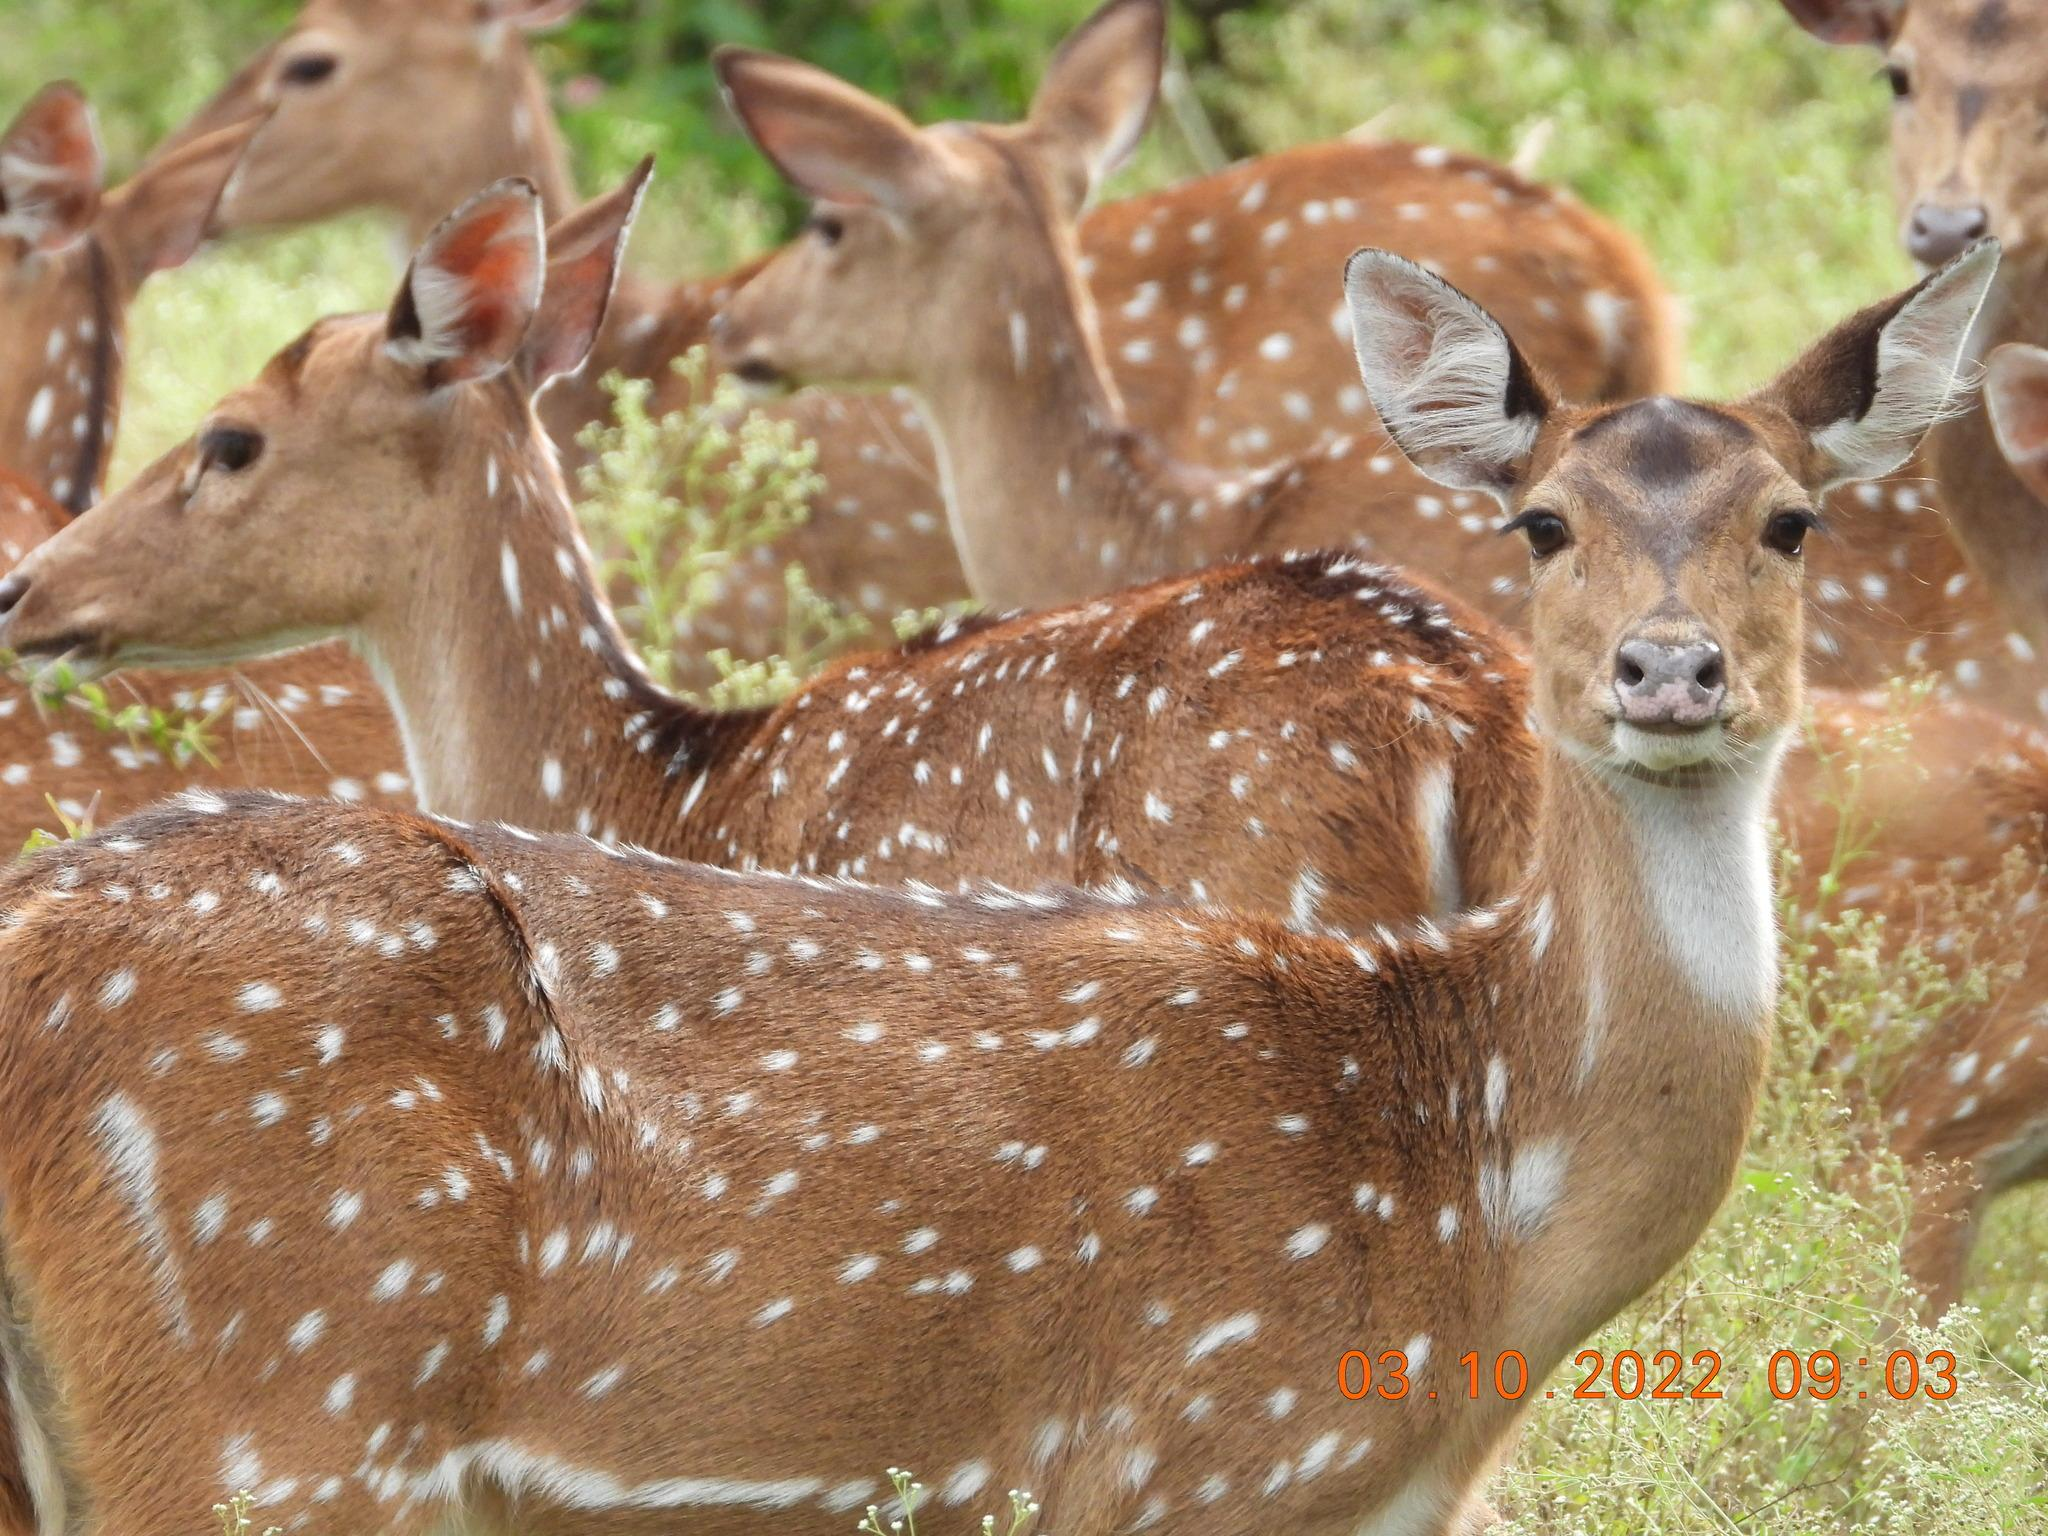Deer: (0, 247, 1996, 1534), (0, 158, 1543, 941)
